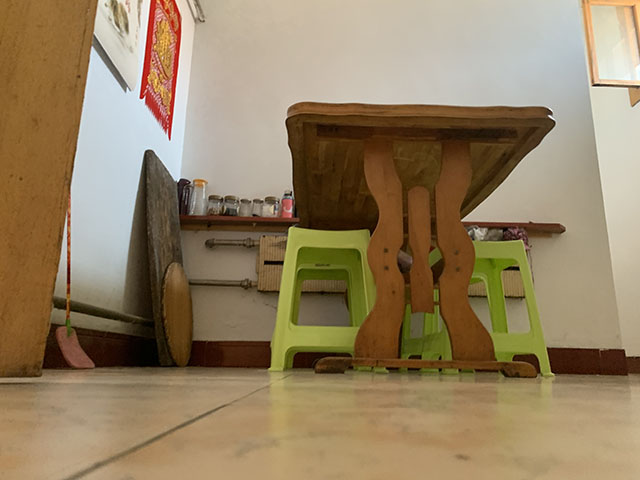stool: (397, 238, 557, 379), (267, 225, 390, 373)
table: (284, 101, 559, 379)
